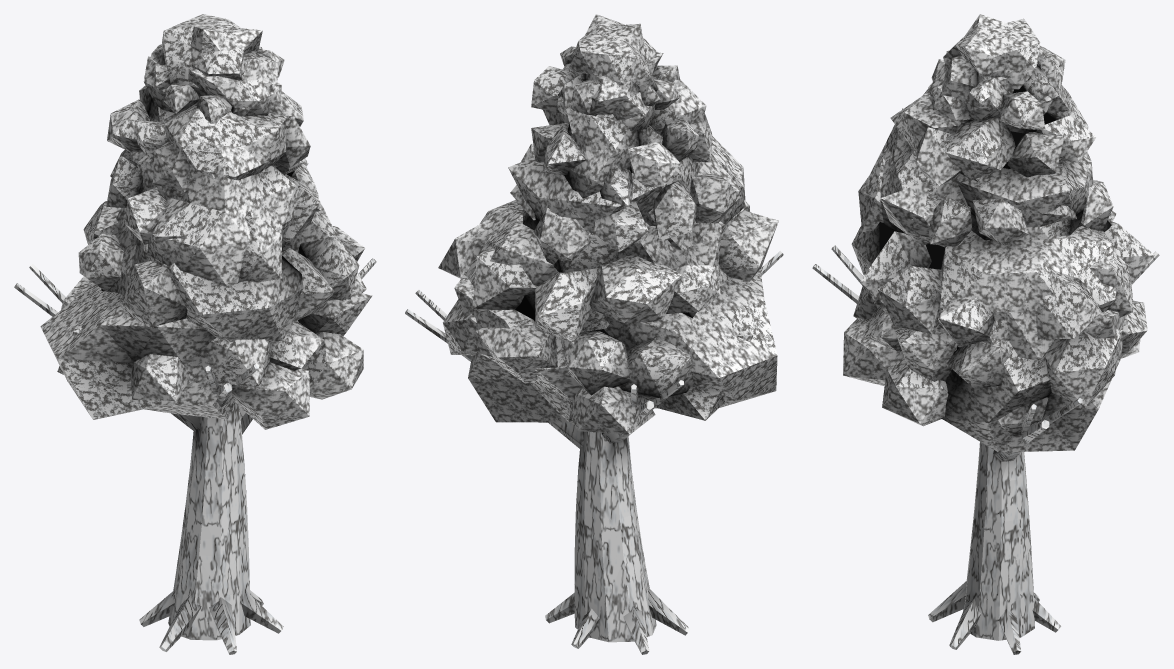
The picture shows the model from 3 angles, left to right: view 1: azimuth 30°, elevation 25°; view 2: azimuth 150°, elevation 25°; view 3: azimuth 270°, elevation 25°; orthographic projection.
Visible parts, largest first — view 1: tree_M_leaf_dark, tree_M_leaf, tree_M_bark, tree_M_leaf_light, tree_M_bark_dark; view 2: tree_M_leaf_dark, tree_M_leaf, tree_M_leaf_light, tree_M_bark, tree_M_bark_dark; view 3: tree_M_leaf_dark, tree_M_leaf, tree_M_leaf_light, tree_M_bark, tree_M_bark_dark.
Boxes of the visible parts, x1,y1,x2,y2 form: tree_M_leaf_dark: [40, 107, 363, 429]; tree_M_leaf: [83, 85, 372, 400]; tree_M_bark: [168, 383, 252, 640]; tree_M_leaf_light: [130, 14, 284, 174]; tree_M_bark_dark: [14, 258, 376, 654]; tree_M_leaf_dark: [443, 164, 778, 434]; tree_M_leaf: [438, 79, 745, 395]; tree_M_leaf_light: [531, 14, 698, 175]; tree_M_bark: [448, 345, 656, 642]; tree_M_bark_dark: [405, 251, 783, 654]; tree_M_leaf_dark: [843, 220, 1154, 452]; tree_M_leaf: [858, 85, 1132, 388]; tree_M_leaf_light: [910, 14, 1096, 177]; tree_M_bark: [963, 420, 1049, 640]; tree_M_bark_dark: [812, 245, 1159, 654].
Size of the model in its own units: 3.87 by 6.59 by 3.43.
5 materials, 5 textured.
